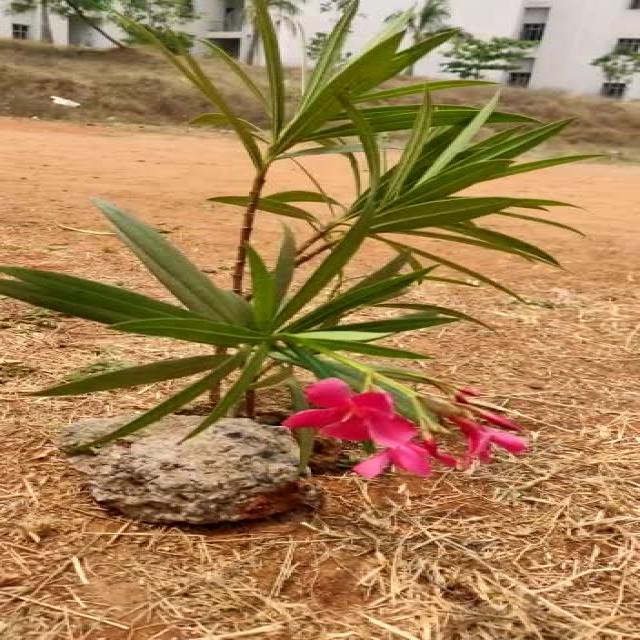Oleander: (84, 0, 559, 456)
